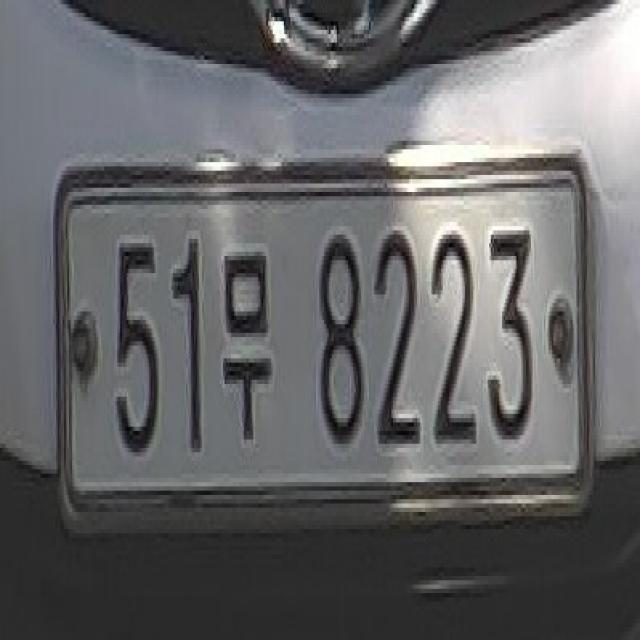1: (168, 231, 208, 463)
2: (427, 218, 482, 464), (371, 218, 422, 459)
3: (486, 219, 538, 454)
5: (110, 235, 163, 462)
8: (310, 217, 367, 447)
license_plate: (47, 142, 600, 526)
mu: (217, 235, 276, 464)
